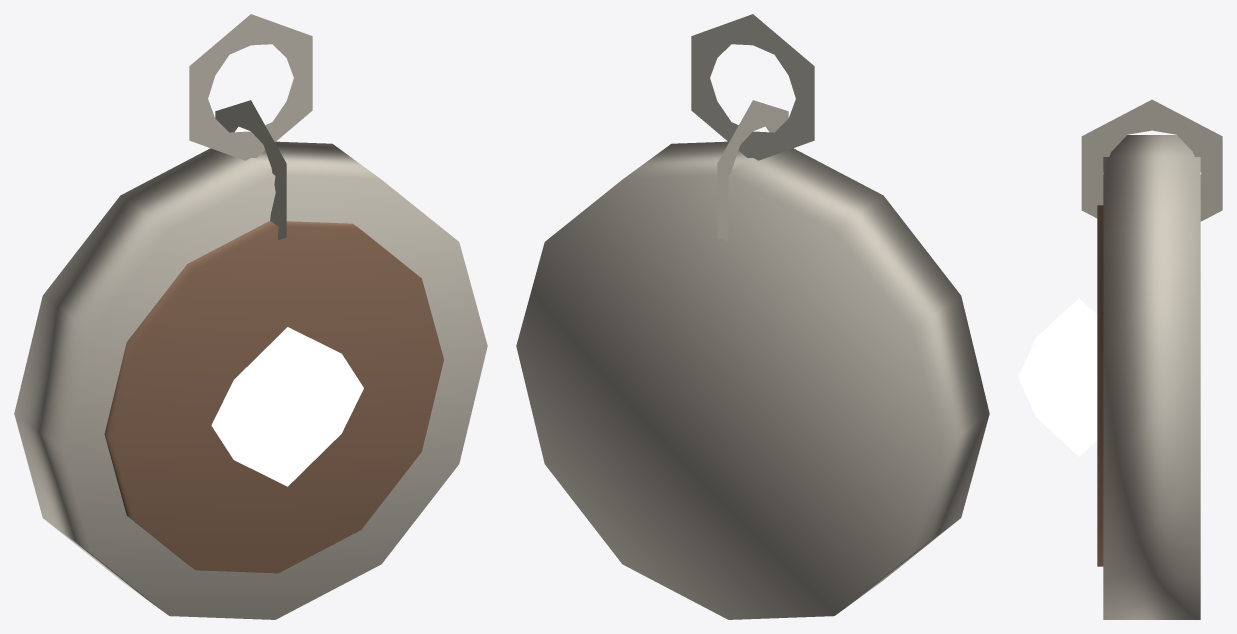
File: charm_rare.glb
The picture shows the model from 3 angles, left to right: view 1: azimuth 30°, elevation 25°; view 2: azimuth 150°, elevation 25°; view 3: azimuth 270°, elevation 25°; orthographic projection.
Visible parts, largest first — view 1: charm_rare; view 2: charm_rare; view 3: charm_rare.
Part boxes in pixels (x1=…): charm_rare: x1=14, y1=14, x2=487, y2=619; charm_rare: x1=516, y1=14, x2=989, y2=619; charm_rare: x1=1018, y1=99, x2=1222, y2=619.
Size of the model in its own units: 0.08 by 0.1059 by 0.0336.
